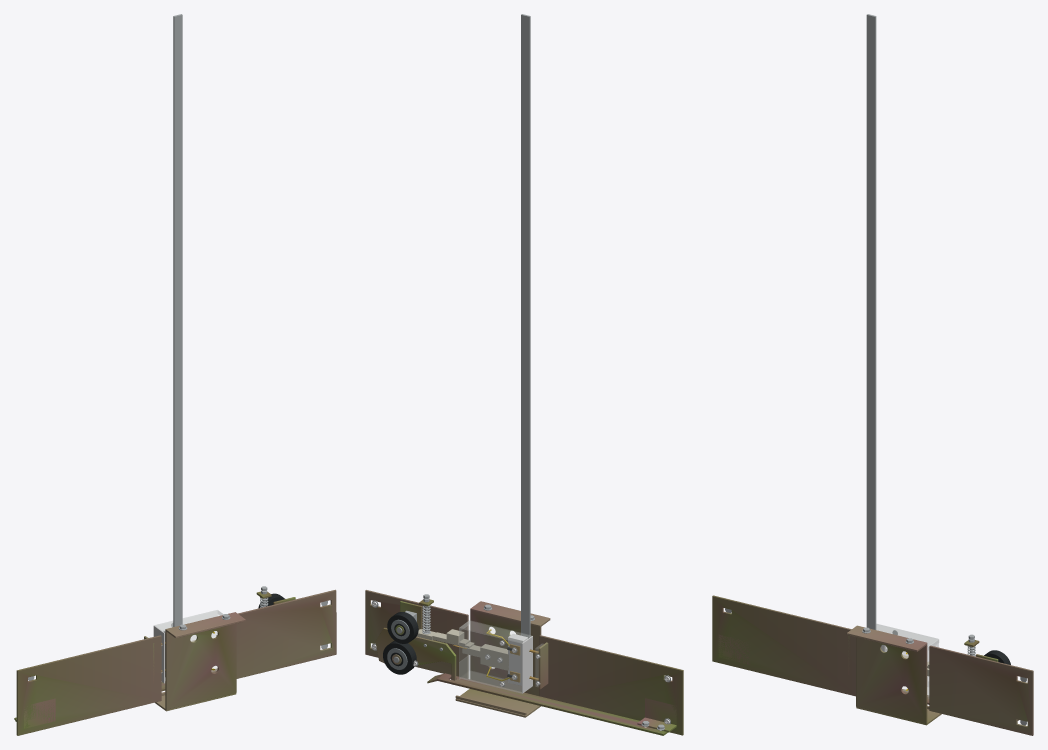
The model's file is hall_interlock.glb.
3 renders of one model, left to right at view 1: azimuth 30°, elevation 25°; view 2: azimuth 150°, elevation 25°; view 3: azimuth 330°, elevation 25°, orthographic.
Parts seen in each view (by area): view 1: Opposite mounting extension, Slotted roller mounting plate, LinkStock, SwitchBackplate, Header fixing flange, Keeper angle upright; view 2: Opposite mounting extension, LinkStock, Clear front, Slotted roller mounting plate, SwitchBackplate, hallLatchBar, hallLatchKeeperArm, Folded lower shelf, Header fixing flange, Clear horizontal wall.001, Keeper angle upright, Elastomer tread.001 (+4 smaller); view 3: Opposite mounting extension, Slotted roller mounting plate, LinkStock, SwitchBackplate, Header fixing flange, Keeper angle upright.
Part boxes in pixels (x1,y1,x2,y2): Opposite mounting extension: (16,635,161,735); Slotted roller mounting plate: (236,589,336,678); LinkStock: (173,14,182,626); SwitchBackplate: (165,623,236,709); Header fixing flange: (165,612,245,638); Keeper angle upright: (24,698,55,728); Opposite mounting extension: (539,635,683,735); LinkStock: (521,14,530,638); Clear front: (459,628,521,692); Slotted roller mounting plate: (365,590,468,678); SwitchBackplate: (470,610,541,695); hallLatchBar: (437,673,667,735); hallLatchKeeperArm: (375,627,456,680); Folded lower shelf: (455,689,540,717); Header fixing flange: (470,601,550,627); Clear horizontal wall.001: (460,620,531,643); Keeper angle upright: (645,698,676,728); Elastomer tread.001: (383,641,416,674); Opposite mounting extension: (712,595,855,696); Slotted roller mounting plate: (929,645,1033,735); LinkStock: (866,14,876,629); SwitchBackplate: (856,637,927,723); Header fixing flange: (846,625,927,651); Keeper angle upright: (718,634,749,664).
Bounding box in the file's own units: 0.518 × 1.07 × 0.081.
